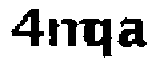4: (11, 8, 47, 49)
a: (119, 15, 152, 52)
n: (45, 18, 80, 50)
q: (80, 16, 117, 60)
